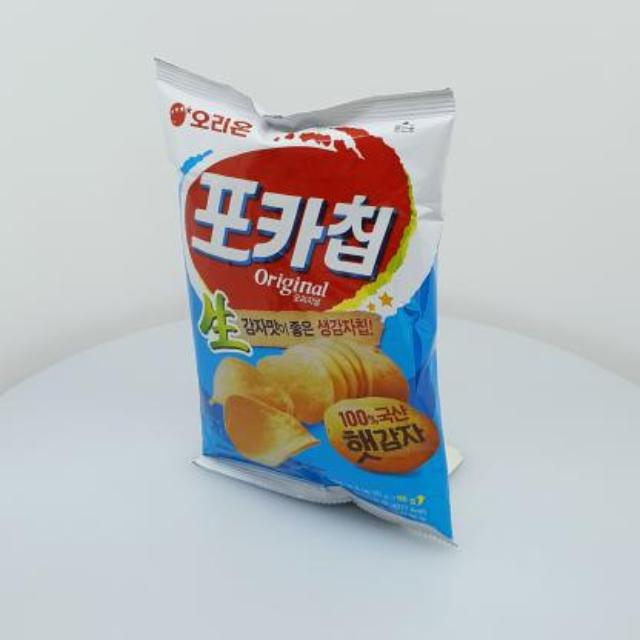snack_bag: (118, 31, 498, 563)
